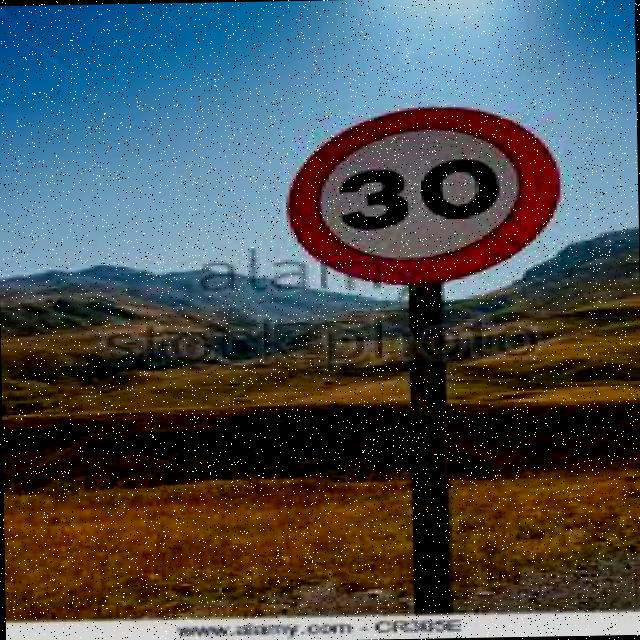Ograniczenie predkosci do 30: (288, 105, 565, 286)
